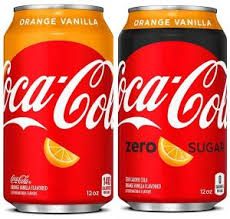coke-can-orange: (2, 3, 116, 213), (123, 3, 226, 208)
